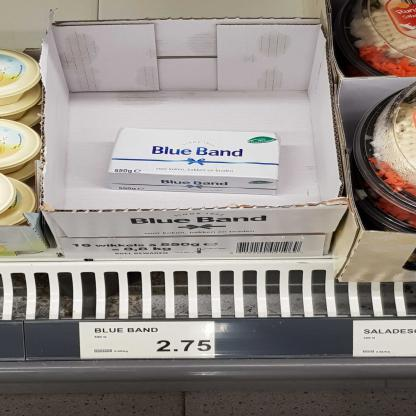prtg: (80, 323, 216, 360), (353, 321, 415, 358)
